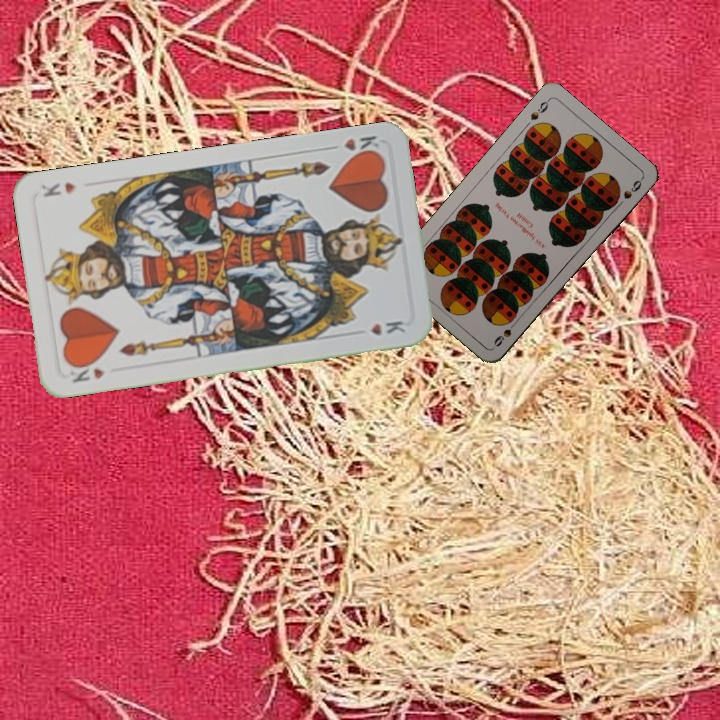HK: (323, 131, 384, 161), (65, 357, 108, 385)
S9: (489, 316, 521, 349), (526, 95, 552, 123)
